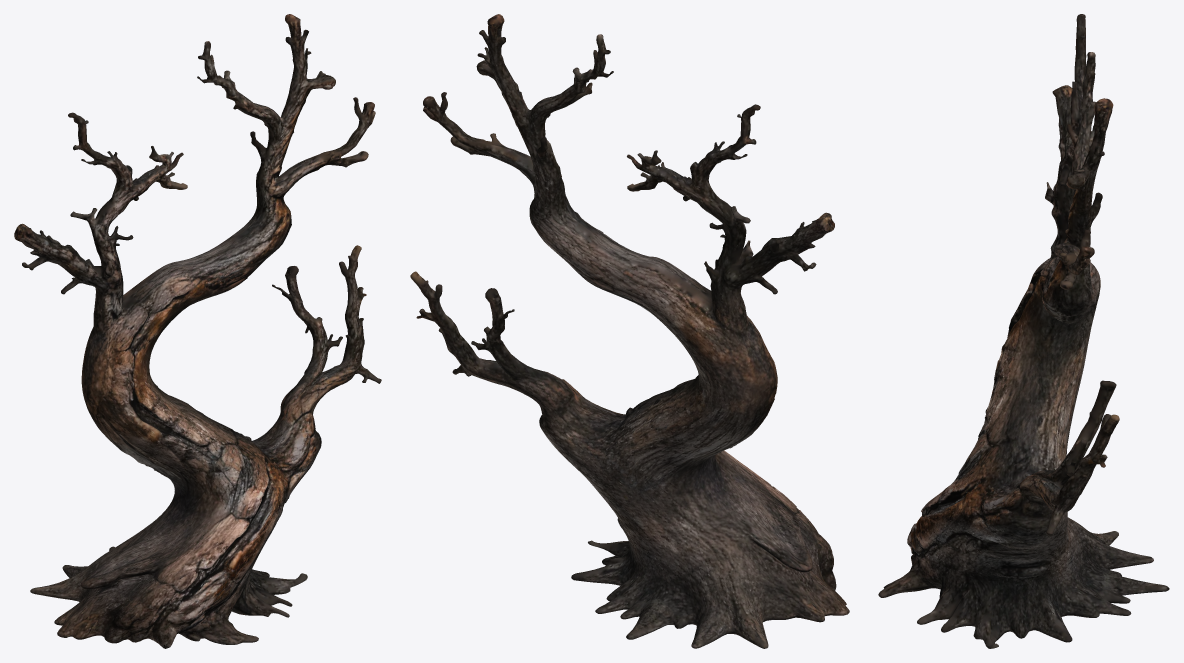
File: arvore-seca.glb
3 renders of one model, left to right at view 1: azimuth 30°, elevation 25°; view 2: azimuth 150°, elevation 25°; view 3: azimuth 270°, elevation 25°, orthographic. The views are drawn at different scales.
Parts seen in each view (by area): view 1: material; view 2: material; view 3: material.
Boxes of the visible parts, x1,y1,x2,y2 form: material: (14, 14, 381, 648); material: (410, 14, 849, 648); material: (878, 14, 1169, 648).
Size of the model in its own units: 5.94 by 8 by 3.69.
Materials: 1 (1 with a texture image).
